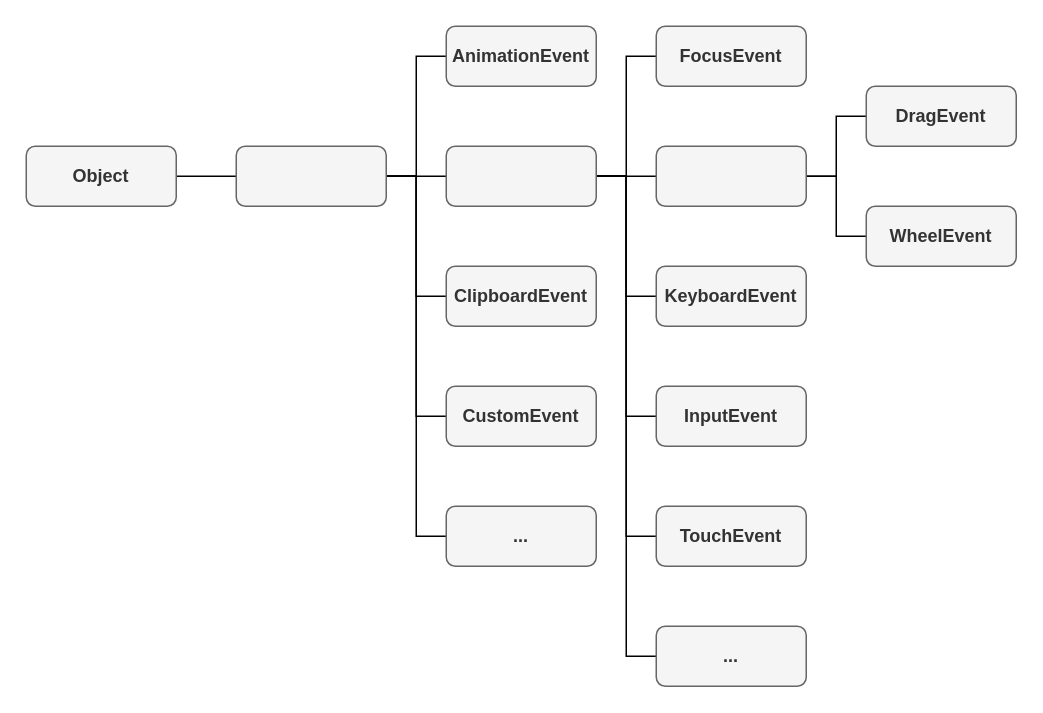
The diagram is 1043 pixels wide and 713 high, and some of its shapes have lost their labels. Each missing label, with the centre of its shape:
"Event" belongs at point 310,175.
"MouseEvent" belongs at point 730,175.
"UIEvent" belongs at point 520,175.
